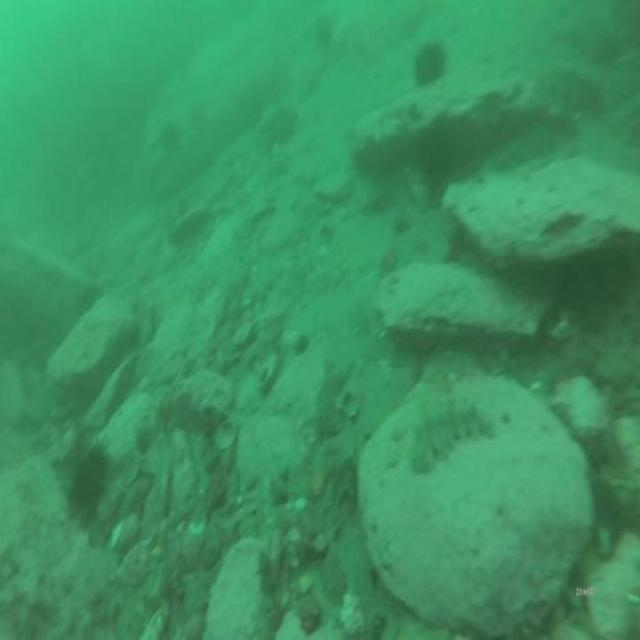echinus: (65, 446, 114, 526), (408, 35, 450, 95), (153, 114, 182, 161), (310, 14, 332, 57)
holothurian: (408, 398, 495, 481)
